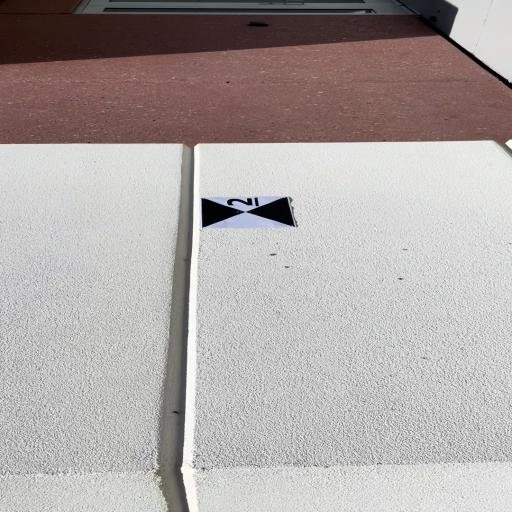target2: (200, 195, 300, 229)
